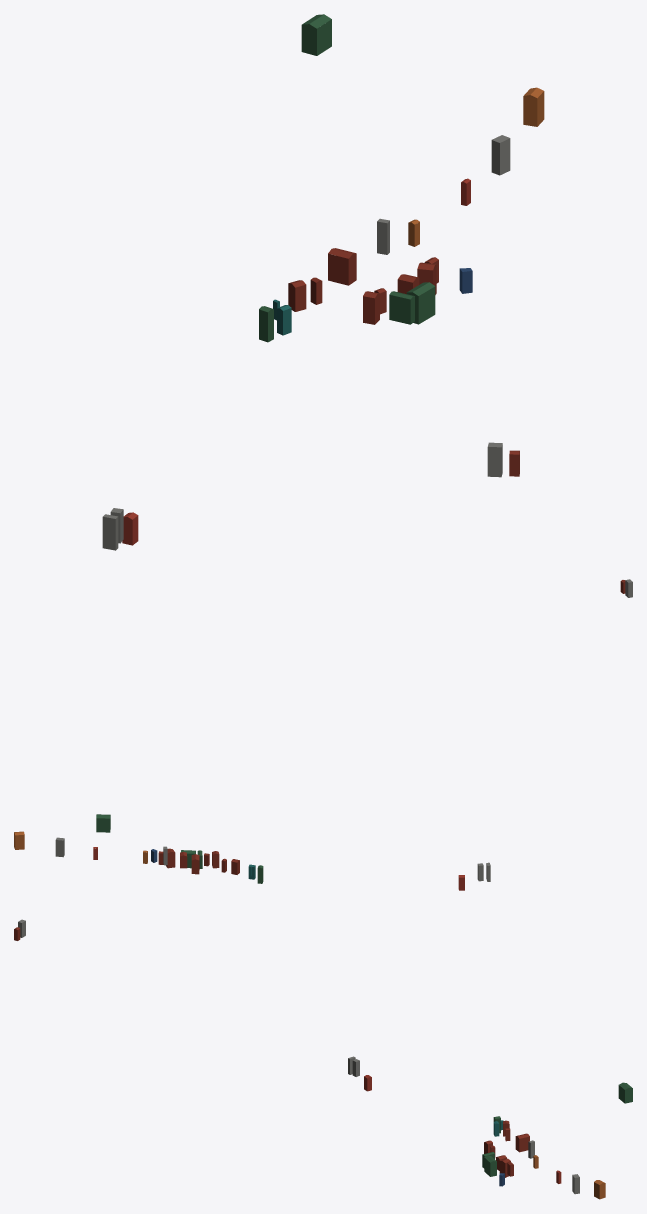
File: near-15-27361-14880.73af36aa.glb
The picture shows the model from 3 angles, top to bottom: view 1: azimuth 30°, elevation 25°; view 2: azimuth 150°, elevation 25°; view 3: azimuth 270°, elevation 25°; orthographic projection. The views are drawn at different scales.
Bounding box in the file's own units: 563 × 271 × 878.
